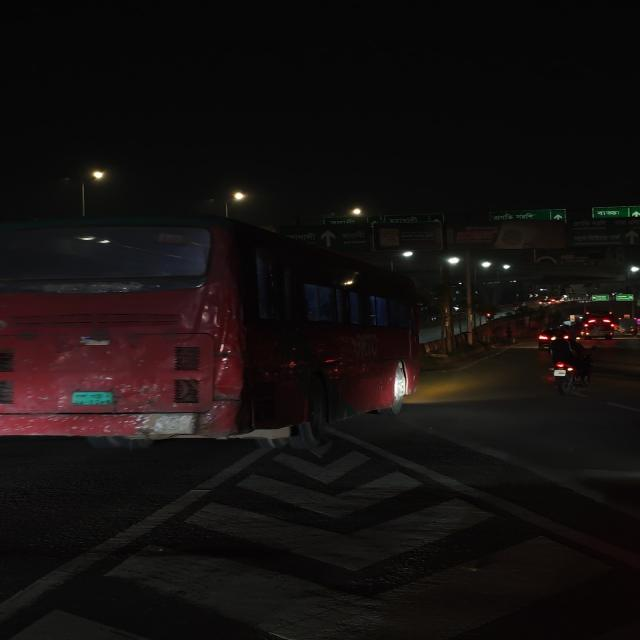bus: (1, 207, 430, 455), (584, 309, 618, 340)
car: (533, 321, 574, 353)
motorcycle: (543, 336, 601, 396)
truck: (617, 315, 639, 336)
